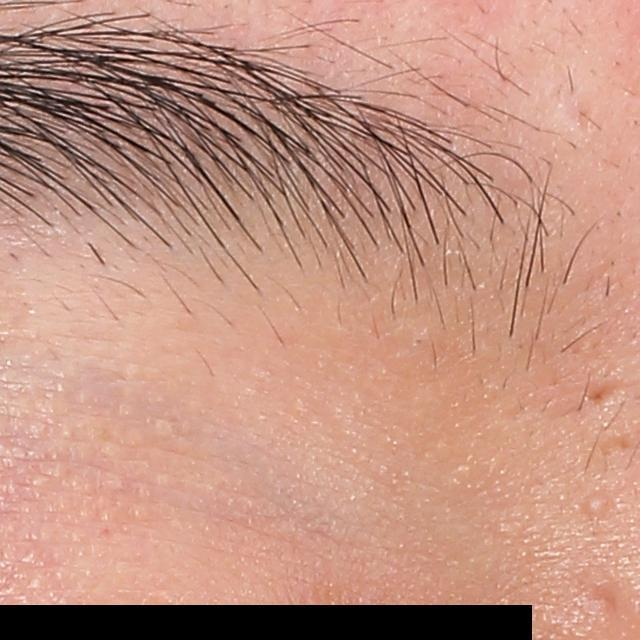atrophic_scar: (580, 380, 623, 409)
comedo: (579, 492, 614, 523)
